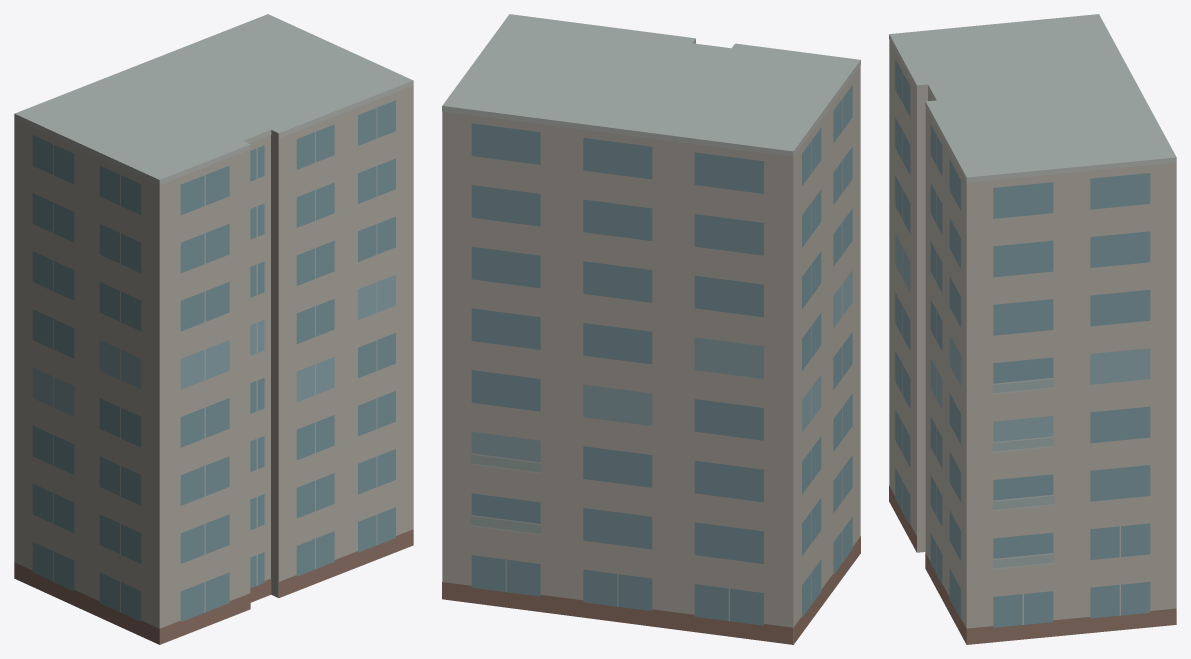
File: survey-upis-32738269.glb
The picture shows the model from 3 angles, left to right: view 1: azimuth 30°, elevation 25°; view 2: azimuth 150°, elevation 25°; view 3: azimuth 270°, elevation 25°; orthographic projection. The views are drawn at different scales.
Parts seen in each view (by area): view 1: survey-upis-32738269.tmp; view 2: survey-upis-32738269.tmp; view 3: survey-upis-32738269.tmp.
Boxes of the visible parts, x1=… form: survey-upis-32738269.tmp: x1=14, y1=14, x2=413, y2=644; survey-upis-32738269.tmp: x1=442, y1=14, x2=860, y2=644; survey-upis-32738269.tmp: x1=889, y1=14, x2=1176, y2=644.
Size of the model in its own units: 16.52 by 22 by 12.28.
